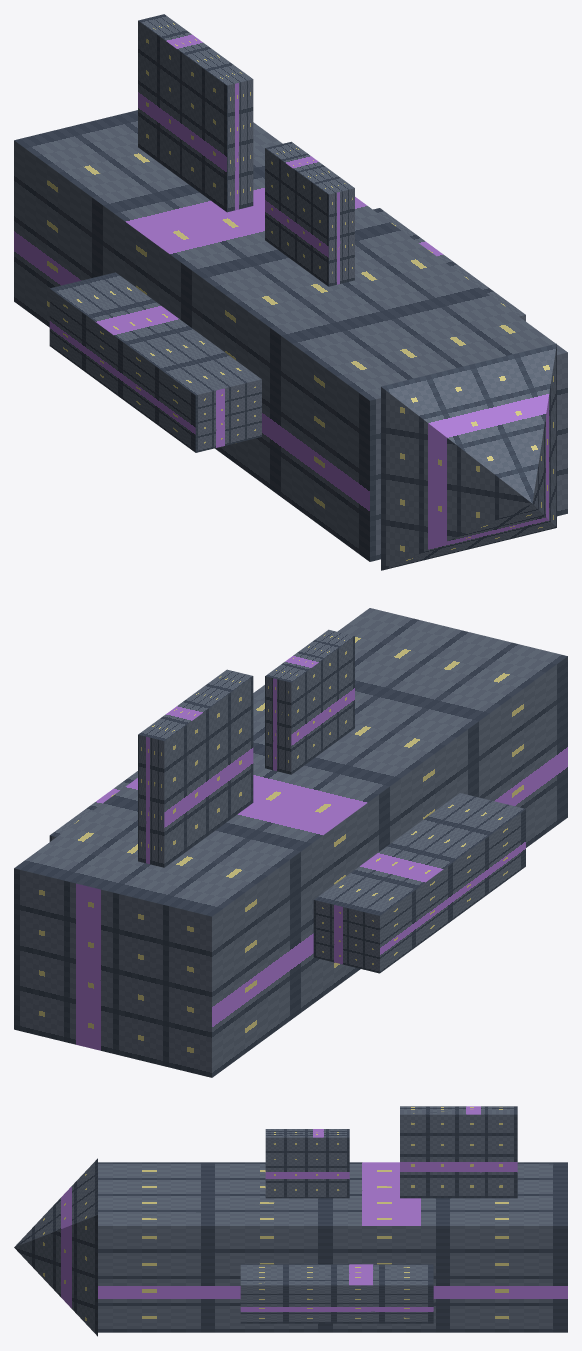
3 renders of one model, top to bottom at view 1: azimuth 30°, elevation 25°; view 2: azimuth 150°, elevation 25°; view 3: azimuth 270°, elevation 25°, orthographic. The views are drawn at different scales.
Parts seen in each view (by area): view 1: hull; view 2: hull; view 3: hull.
Part boxes in pixels (<box>): hull: <box>14,14,567,570</box>; hull: <box>14,608,567,1077</box>; hull: <box>14,1106,567,1336</box>.
Bounding box in the file's own units: 2.21 × 1.91 × 4.85.
Materials: 1 (1 with a texture image).
